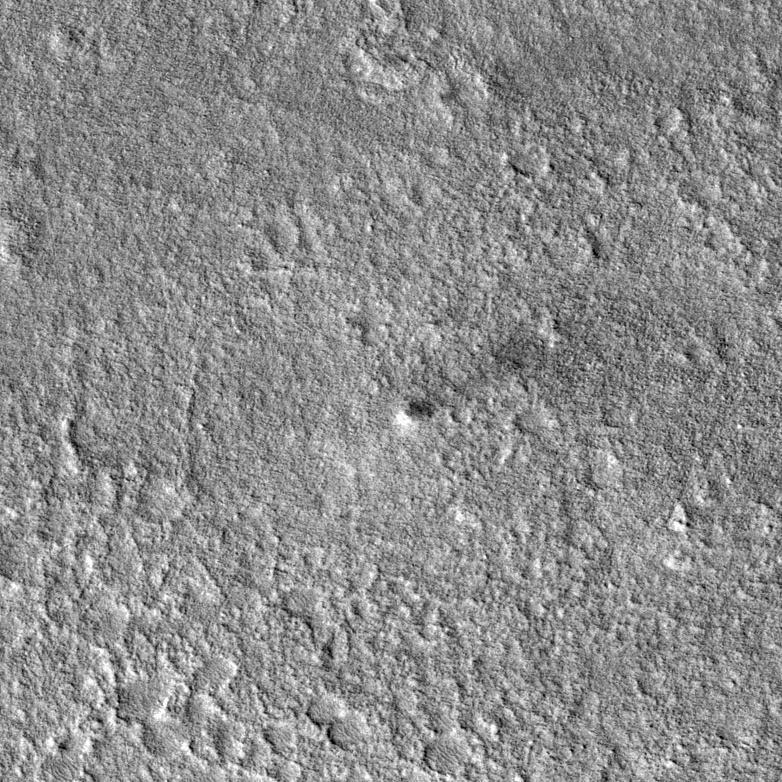dust_devil: (393, 392, 445, 428)
